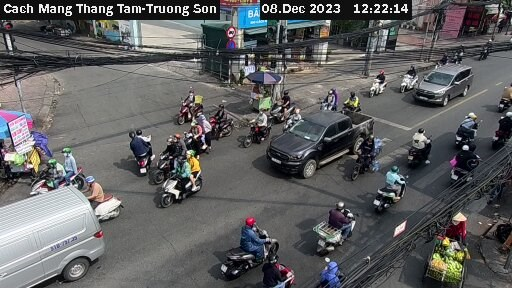car: (1, 179, 109, 282), (267, 108, 379, 171), (415, 61, 474, 105)
motorbike: (212, 223, 276, 266), (30, 153, 91, 194), (158, 163, 210, 211), (310, 202, 365, 246), (74, 176, 129, 218), (368, 168, 417, 215), (118, 129, 163, 175), (399, 128, 444, 167), (146, 135, 187, 174), (252, 252, 295, 288), (180, 117, 221, 154), (242, 111, 284, 145), (351, 138, 388, 176), (452, 111, 487, 151), (452, 146, 487, 185), (399, 64, 434, 96), (172, 94, 210, 120), (209, 105, 240, 134), (364, 70, 395, 98), (488, 113, 512, 146), (474, 34, 504, 59), (492, 78, 512, 109)
